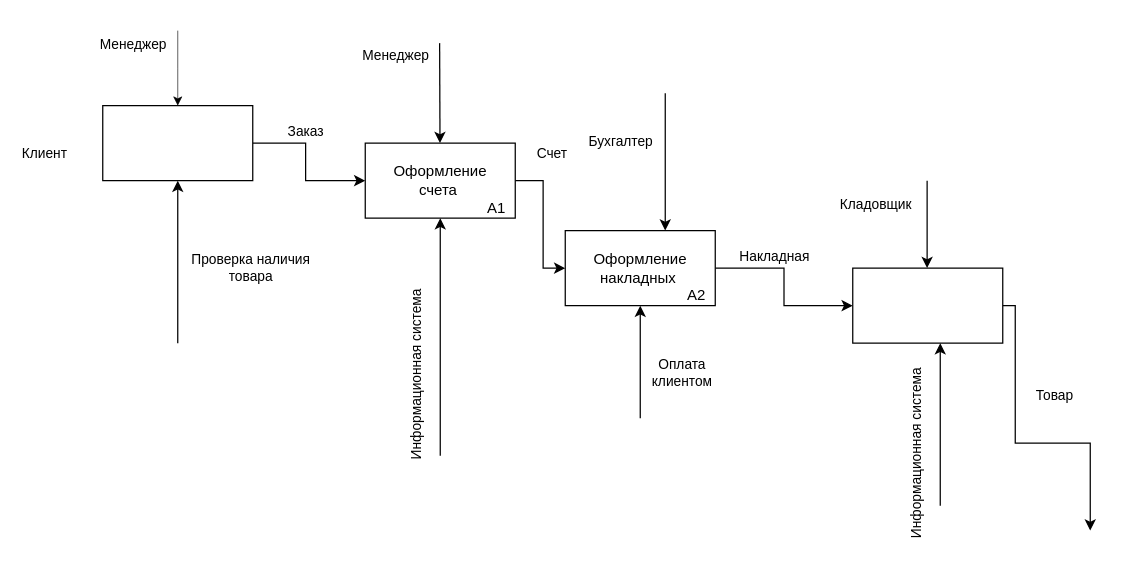
Some shapes in this 1123 by 563 pixel diagram are drawn without their labels. The centre of each missing label's shape, as x and y in pixels:
Выдача товара А3: point (927, 305)
Оформление заказа А0: point (177, 142)
